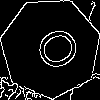O: (25, 22, 83, 79)
